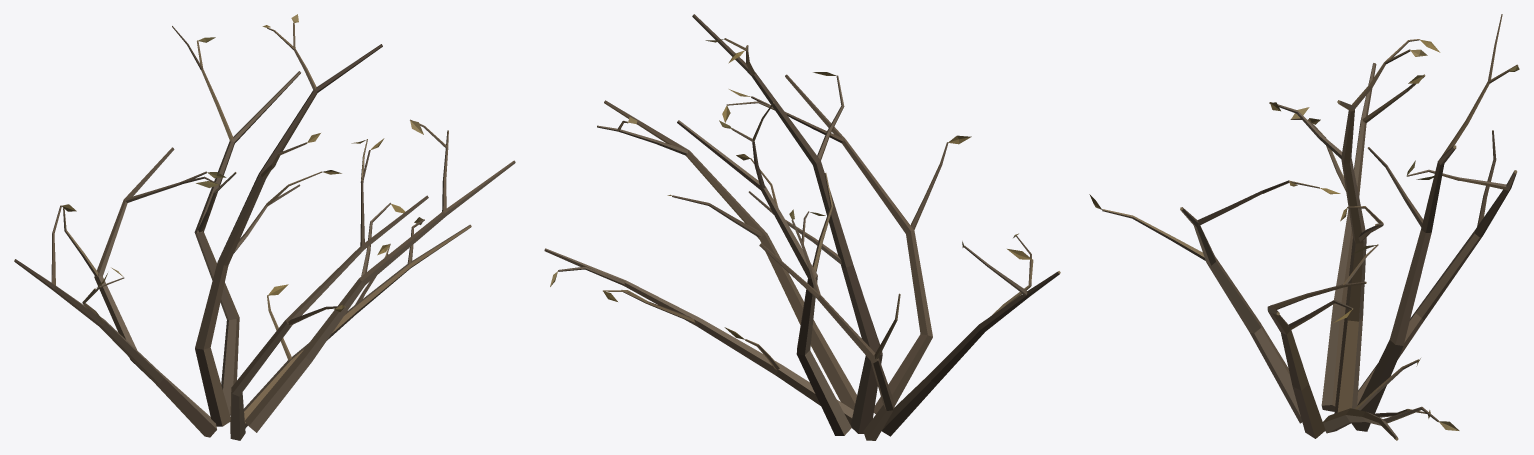
Rendered from dry-shrub.glb.
3 views of the same model, side by side, from view 1: azimuth 30°, elevation 25°; view 2: azimuth 150°, elevation 25°; view 3: azimuth 270°, elevation 25° (orthographic). The views are drawn at different scales.
Size of the model in its own units: 0.78 by 0.58 by 0.52.
